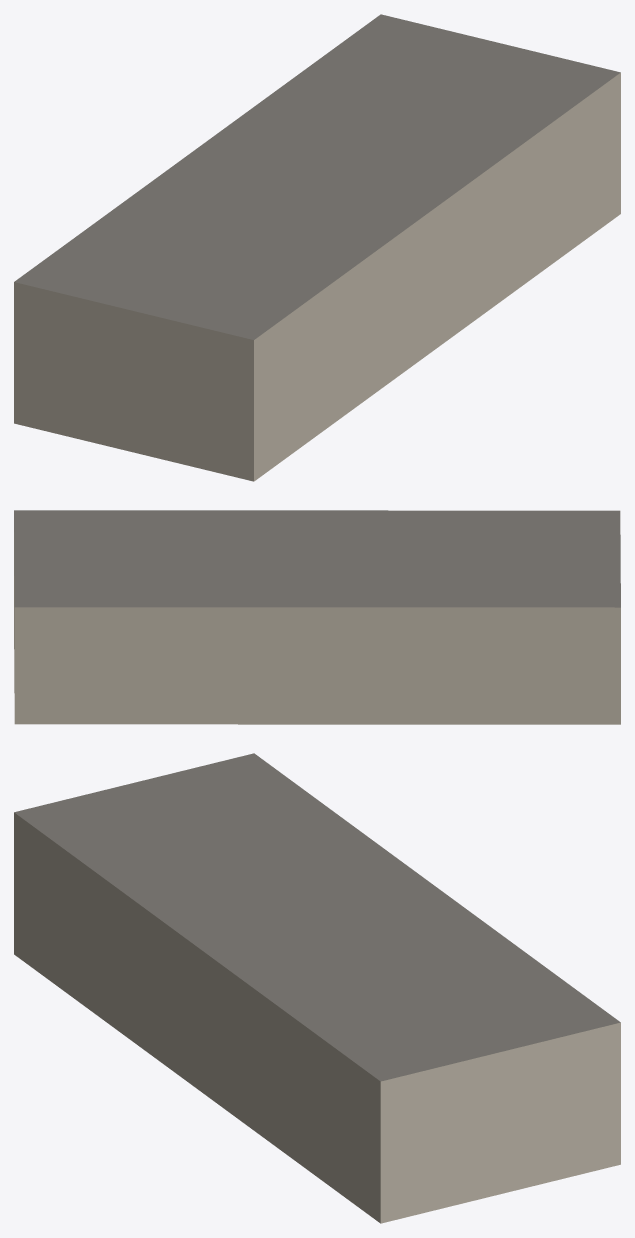
3 views of the same model, one above another, from view 1: azimuth 30°, elevation 25°; view 2: azimuth 150°, elevation 25°; view 3: azimuth 270°, elevation 25° (orthographic). The views are drawn at different scales.
Visible parts, largest first — view 1: HP-w505633414; view 2: HP-w505633414; view 3: HP-w505633414.
Part boxes in pixels (x1,y1,x2,y2): HP-w505633414: [14, 14, 620, 481]; HP-w505633414: [14, 510, 620, 724]; HP-w505633414: [14, 753, 620, 1223].
Size of the model in its own units: 74.31 by 15 by 58.06.
